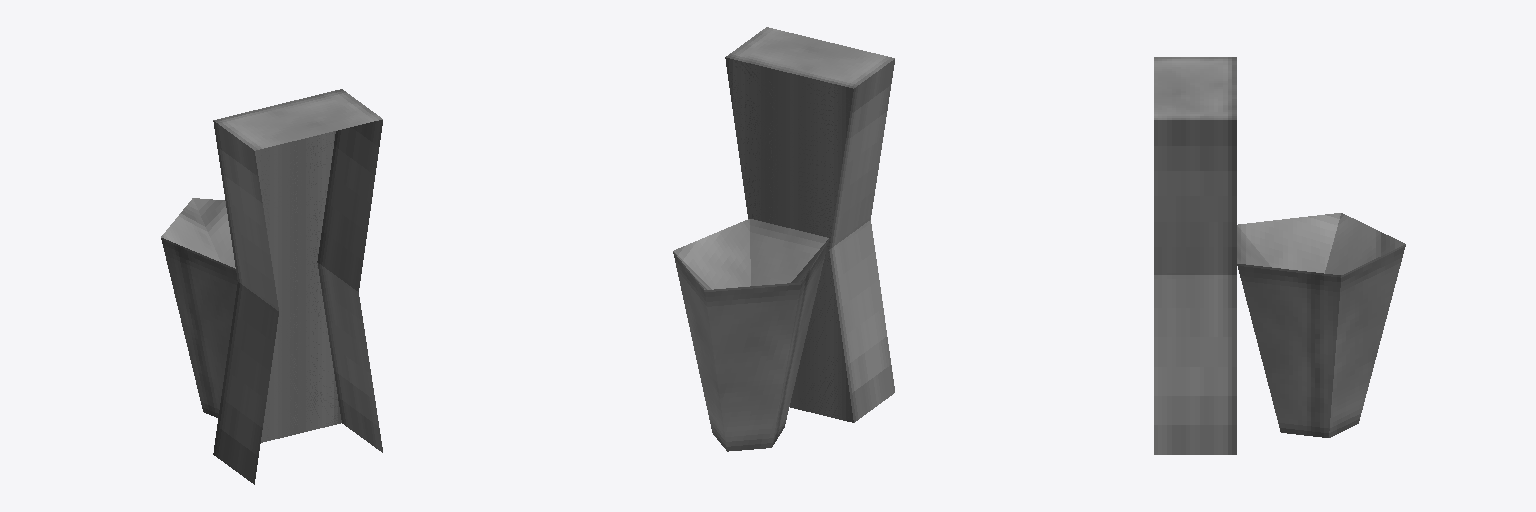
The picture shows the model from 3 angles: view 1: azimuth 30°, elevation 25°; view 2: azimuth 150°, elevation 25°; view 3: azimuth 270°, elevation 25°; orthographic projection.
Parts seen in each view (by area): view 1: wc1; view 2: wc1; view 3: wc1.
Boxes of the visible parts, box(x1,y1,x2,y2) form: wc1: box(161, 89, 382, 484); wc1: box(673, 27, 894, 451); wc1: box(1154, 57, 1405, 454).
Bounding box in the file's own units: 0.8464 × 2.1 × 1.44.
Materials: 1 (1 with a texture image).